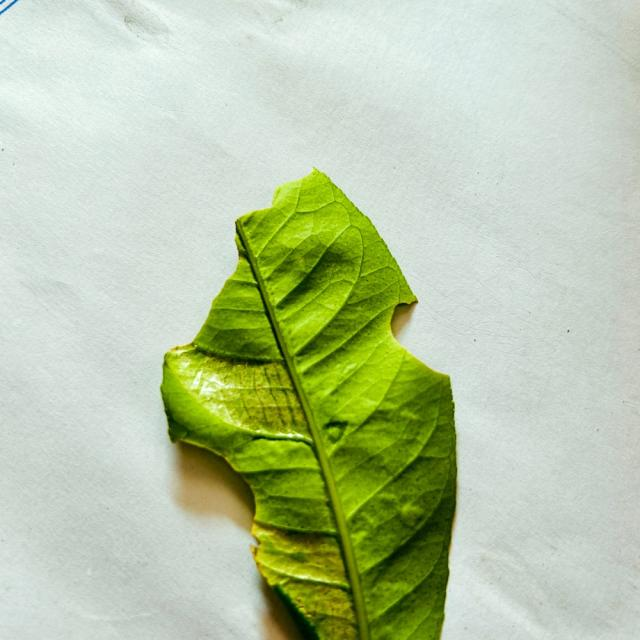Deficiency Leaf: (164, 221, 237, 344), (173, 441, 255, 536), (231, 166, 320, 219), (392, 301, 457, 371)
Lemon: (161, 170, 456, 639)
